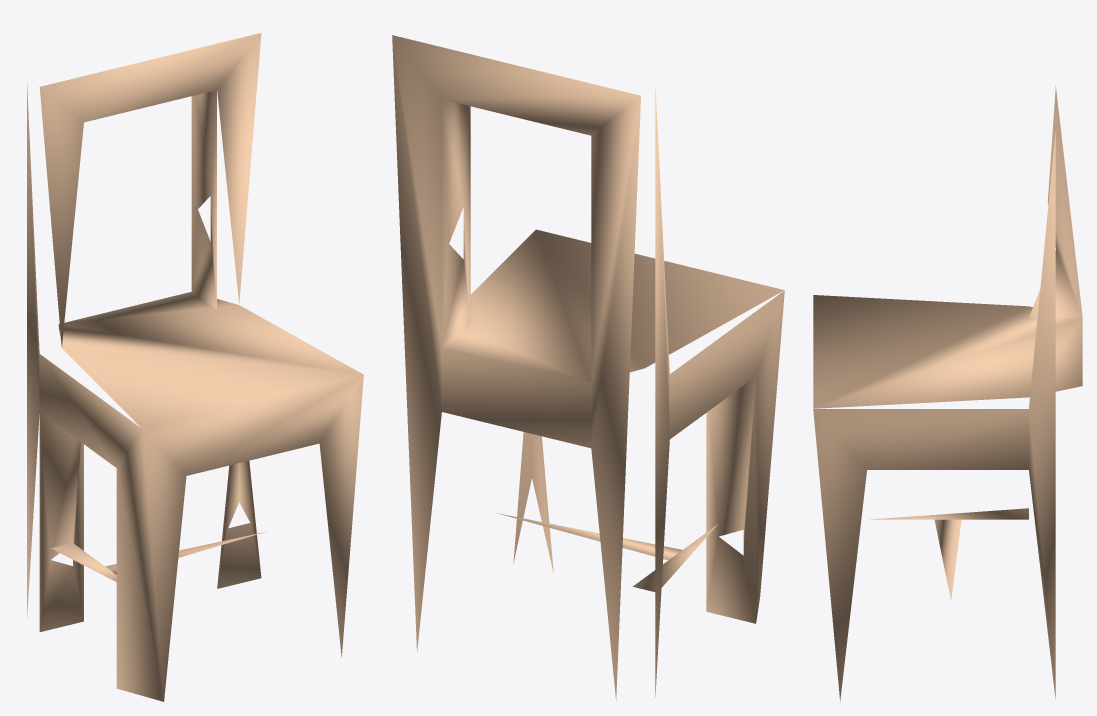
Rendered from chair-medium.glb.
3 renders of one model, left to right at view 1: azimuth 30°, elevation 25°; view 2: azimuth 150°, elevation 25°; view 3: azimuth 270°, elevation 25°, orthographic. The views are drawn at different scales.
Parts seen in each view (by area): view 1: chair(Clone) baked; view 2: chair(Clone) baked; view 3: chair(Clone) baked.
Part boxes in pixels (x1,y1,x2,y2): chair(Clone) baked: [27, 33, 363, 701]; chair(Clone) baked: [392, 35, 784, 700]; chair(Clone) baked: [813, 86, 1082, 701].
Size of the model in its own units: 0.2 by 0.47 by 0.2.
